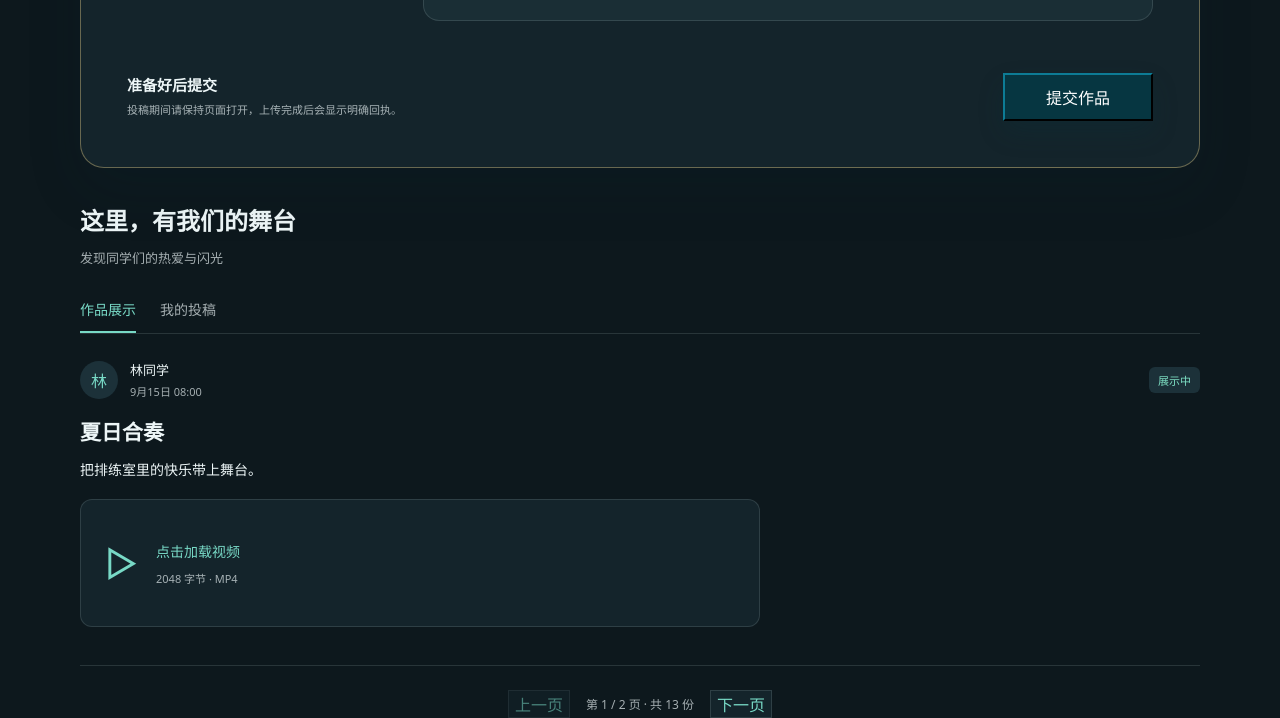
Test: FestivalPage › supports pagination without requesting reviewer data for an ordinary viewer
(page scrolled)
Click the button "下一页" at (741,704), box [710, 690, 772, 717]
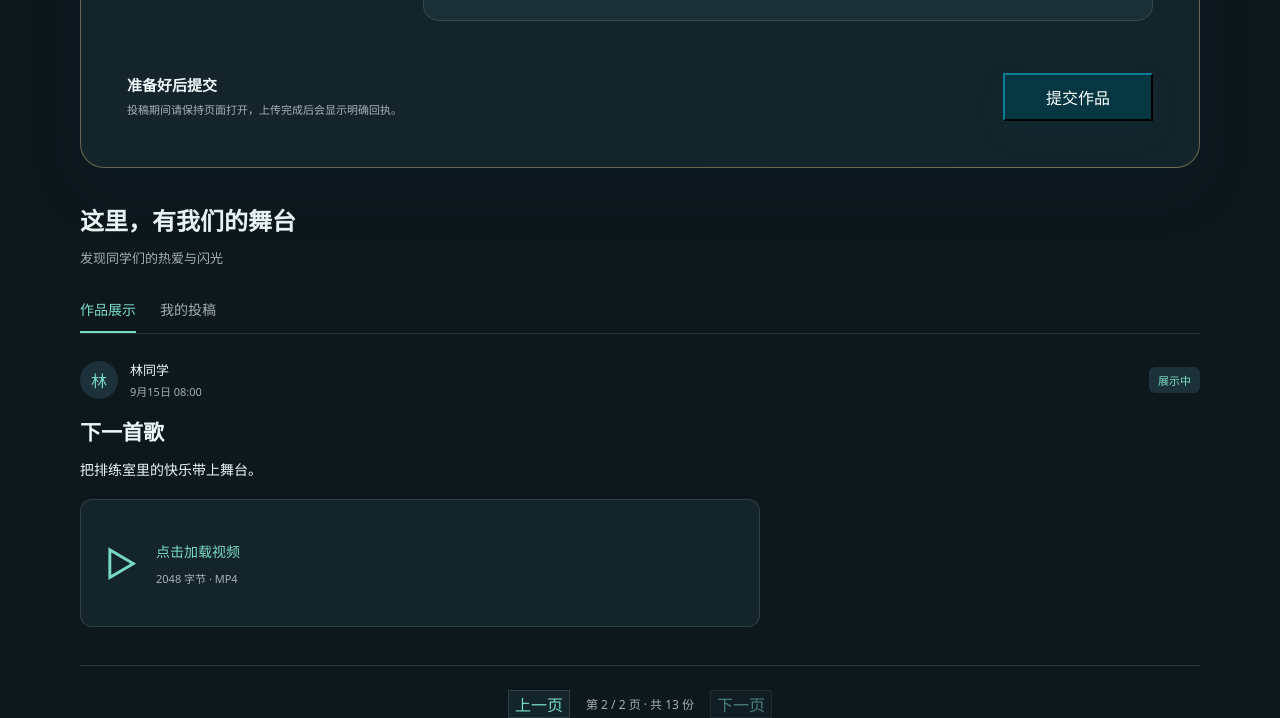
Now the element "下一首歌" is shown, box [80, 334, 1200, 666]
Now the button "下一页" is disabled, box [710, 690, 772, 717]
